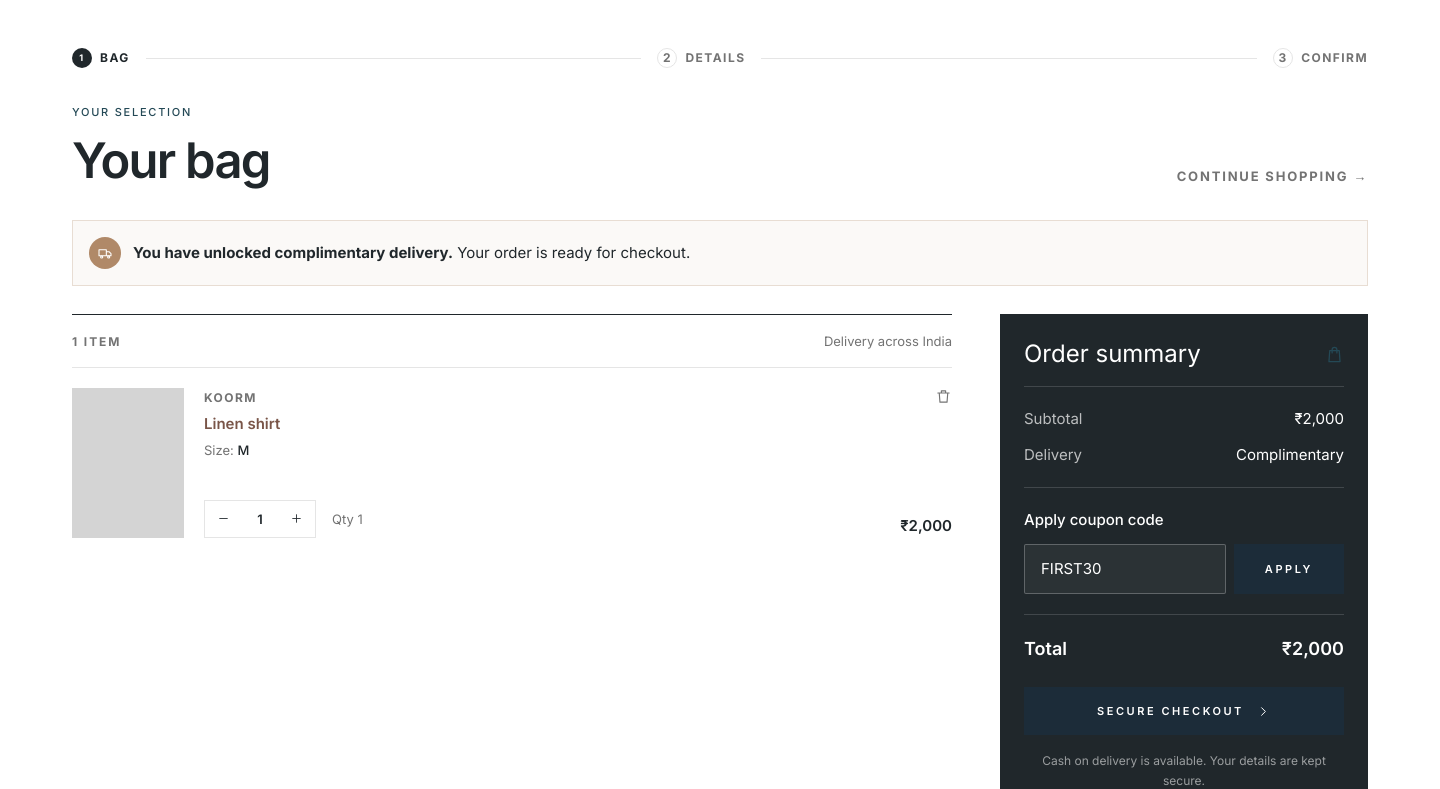
it: prefills FIRST30 for an eligible customer and carries it into checkout after Apply
Expected: the field labelled "Apply coupon code" holds "FIRST30", [1024,544,1226,594]
Expected: the text "Coupon discount" is not shown
Click the button "Apply" at (1289, 569), box [1234,544,1344,594]
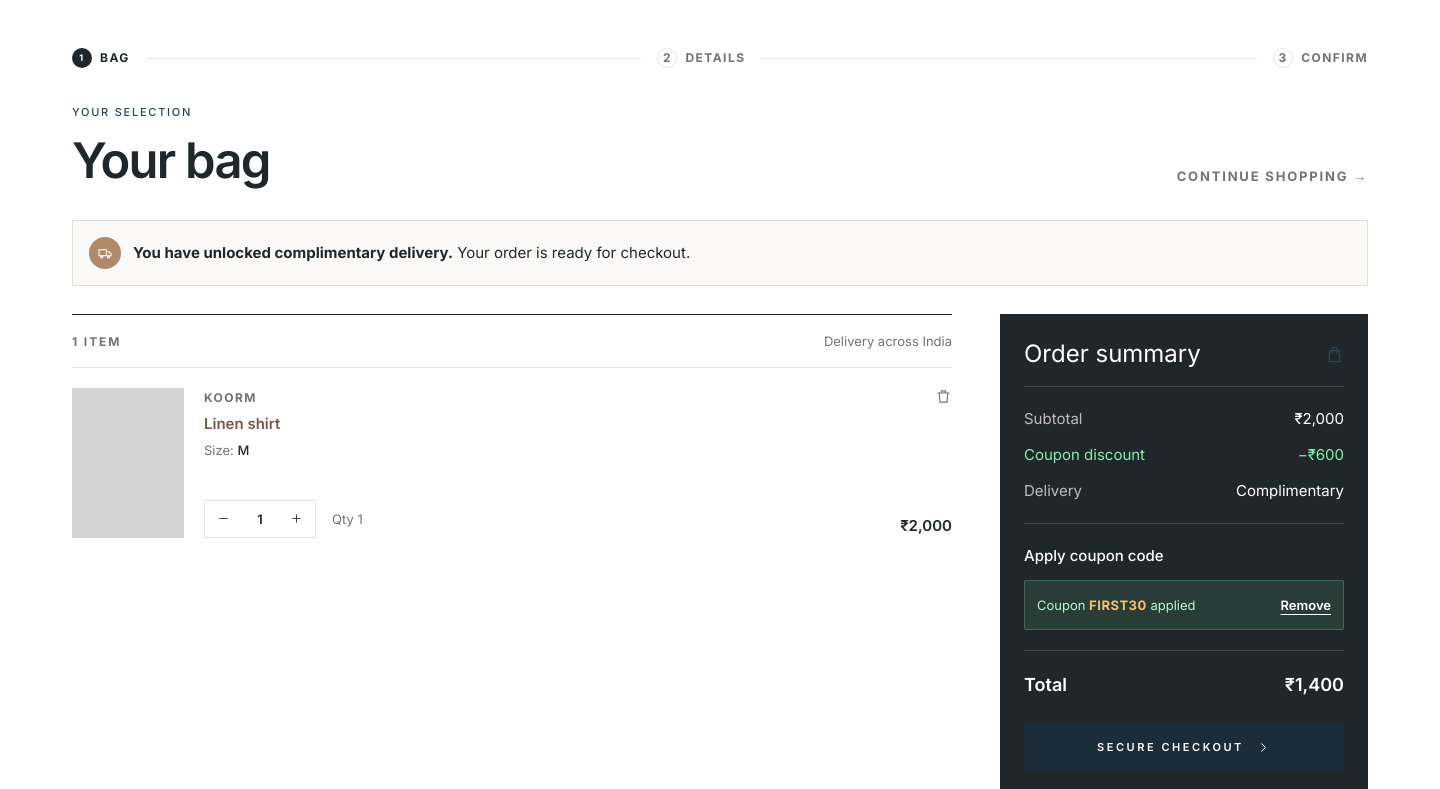
Expected: the message reads "Coupon FIRST30 applied", [1037,595,1196,615]
Expected: the text "₹1,400" is shown, [1285,671,1344,699]
Click the button "Secure checkout" at (1184, 747), box [1024,723,1344,771]
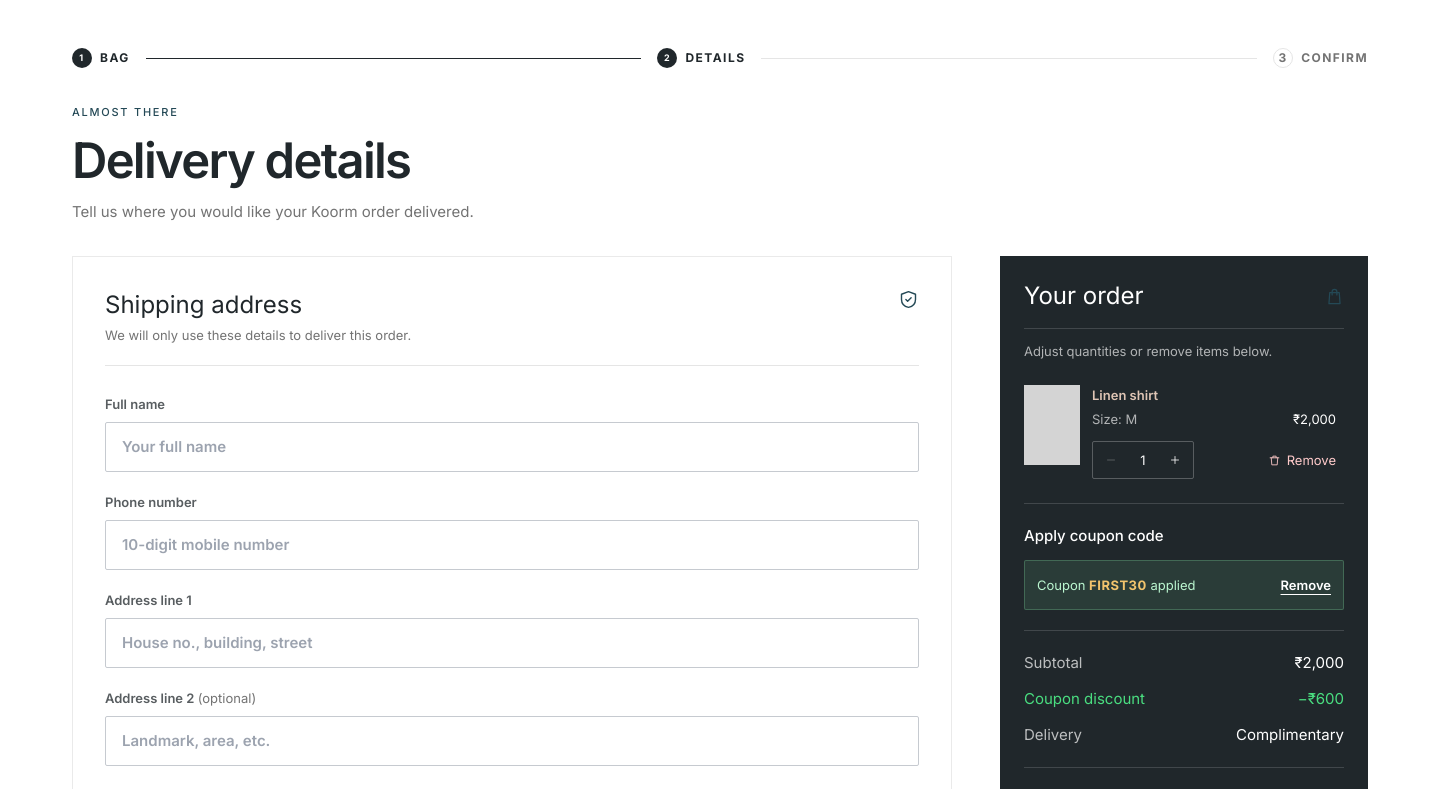
Expected: the message reads "Coupon FIRST30 applied", [1037,575,1196,595]
Click the button "Remove" next to "applied" at (1306, 585), box [1280,571,1331,599]
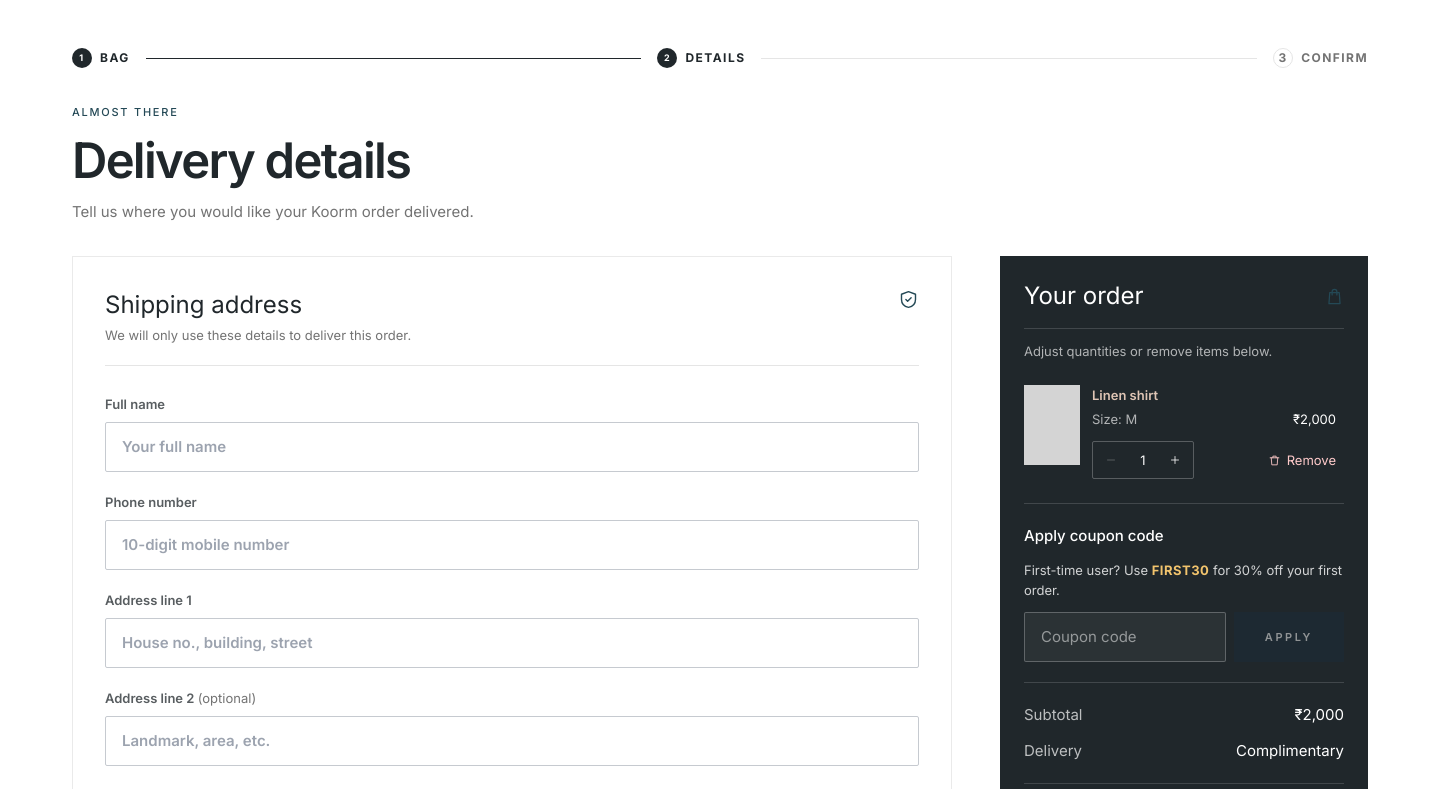
Expected: the text "Coupon discount" is gone
